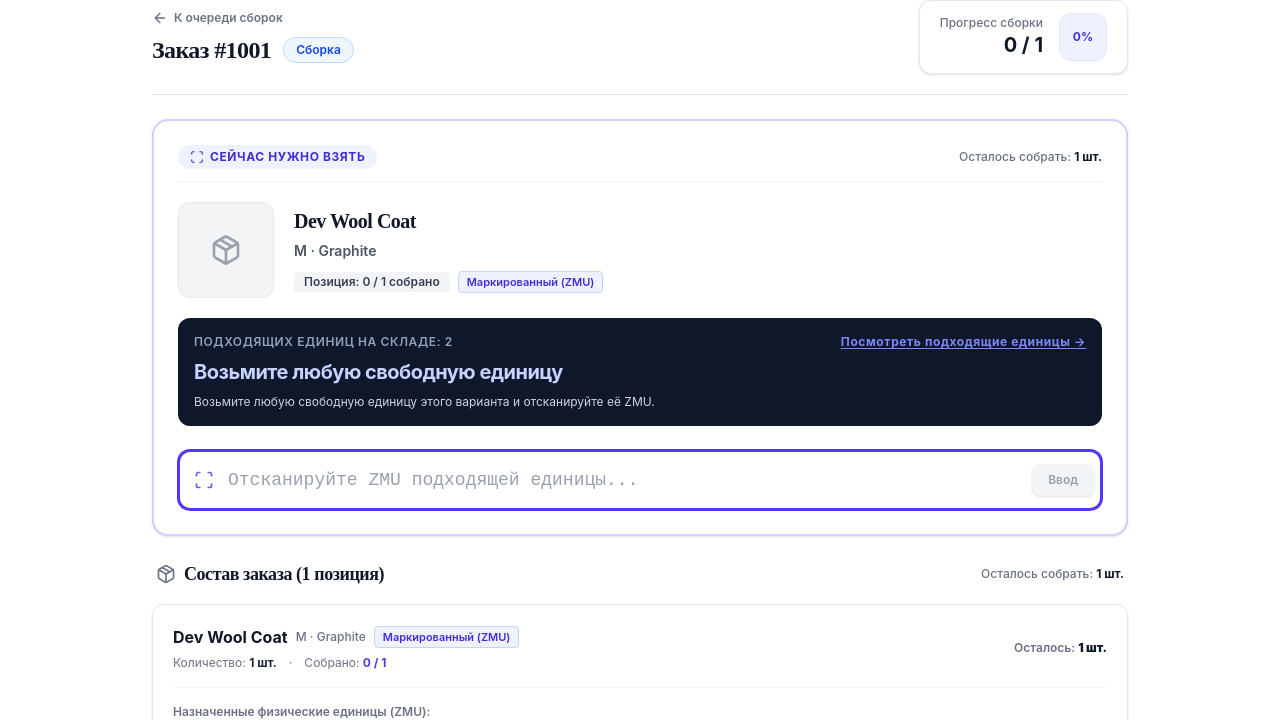
Test case: Admin Guided Picking Foundation (M6.1) › opens drawer and displays compatible units list with allocated and free badges
Click the button with test id "view-compatible-units-btn" at (963, 342), box [841,334,1086,350]
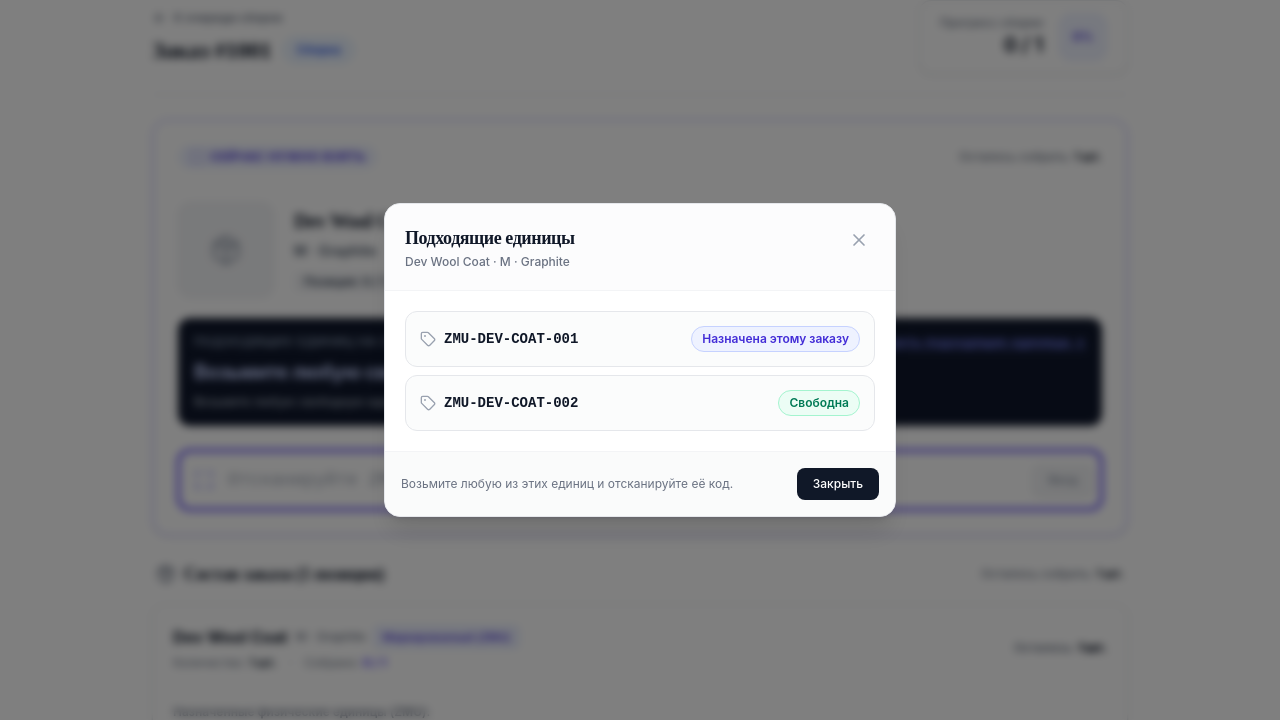
Expected: the element with test id "compatible-units-drawer" is shown
Expected: the text "Назначена этому заказу" is shown, [691,326,860,352]
Expected: the text "ZMU-DEV-COAT-002" is shown, [444,393,578,413]
Note: Close drawer
Click the button with test id "close-compatible-units-btn" at (859, 240), box [843,224,875,256]
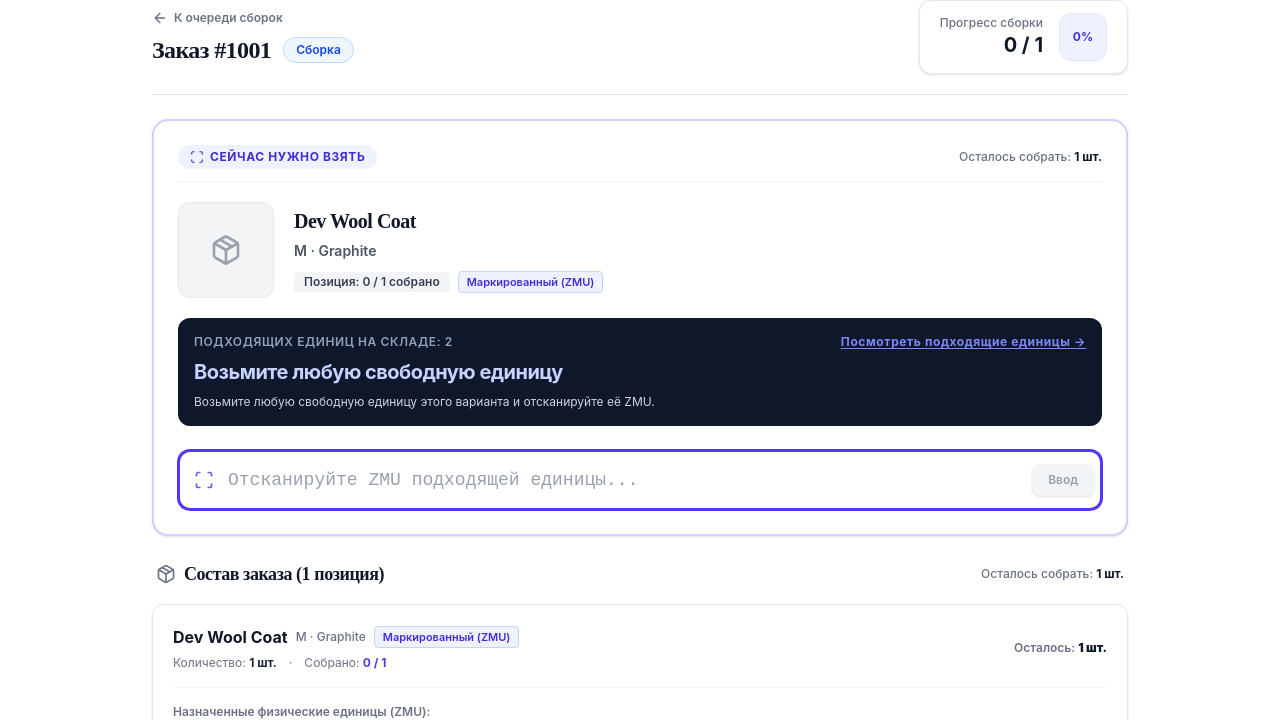
Expected: the element with test id "compatible-units-drawer" is gone
